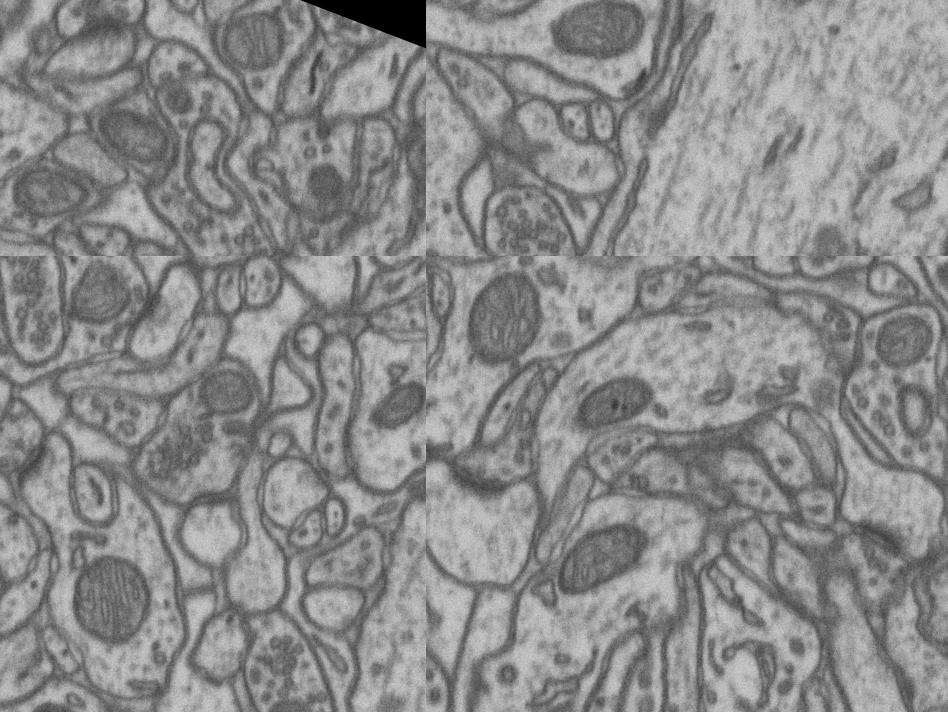mitochondria: (45, 536, 182, 678), (540, 487, 668, 622), (441, 256, 560, 384), (563, 352, 666, 462), (549, 0, 671, 91), (84, 96, 188, 186), (201, 0, 301, 92), (0, 145, 102, 235), (856, 289, 948, 383), (160, 356, 255, 444), (48, 256, 137, 347), (899, 99, 948, 256), (0, 637, 57, 712), (377, 361, 426, 439), (426, 277, 450, 395), (475, 0, 562, 25), (914, 256, 948, 317)
